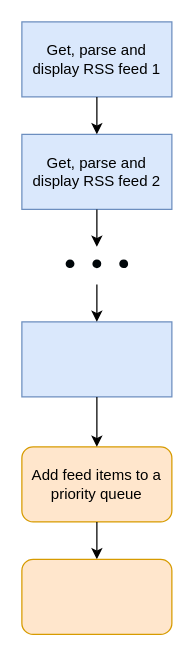
The diagram is 194 pixels wide and 656 high, and some of its shapes have lost their labels. The box of each missing label's shape, as (x1, y1, x2, y2) in pixels:
Display the combined entries from the priority queue: (21, 558, 172, 634)
Get, parse and display RSS feed n: (21, 321, 172, 397)
